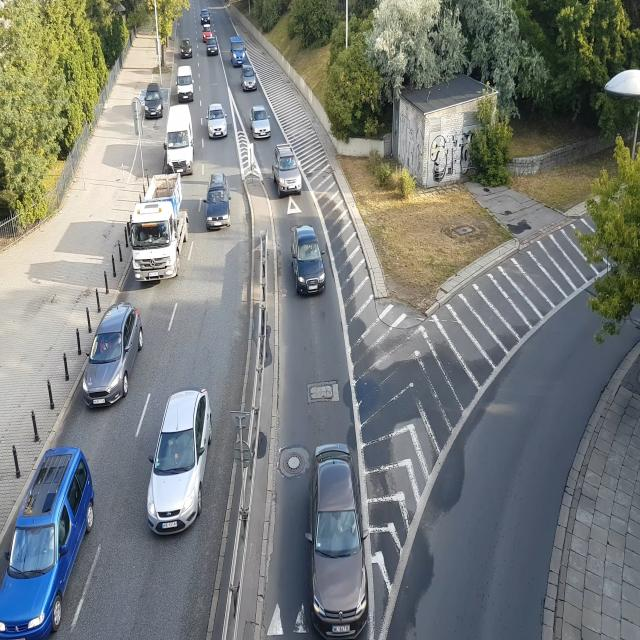car: (0, 444, 105, 640), (304, 439, 368, 632), (141, 388, 220, 538), (74, 310, 139, 408), (287, 221, 329, 298), (166, 105, 193, 173), (271, 144, 304, 196), (206, 171, 232, 227), (206, 94, 228, 142), (249, 103, 271, 139), (143, 86, 165, 120), (228, 35, 247, 70), (239, 59, 257, 92), (177, 66, 193, 102), (180, 36, 192, 59), (205, 38, 219, 56), (200, 9, 210, 23), (204, 26, 212, 38)
truck: (129, 171, 188, 279)
